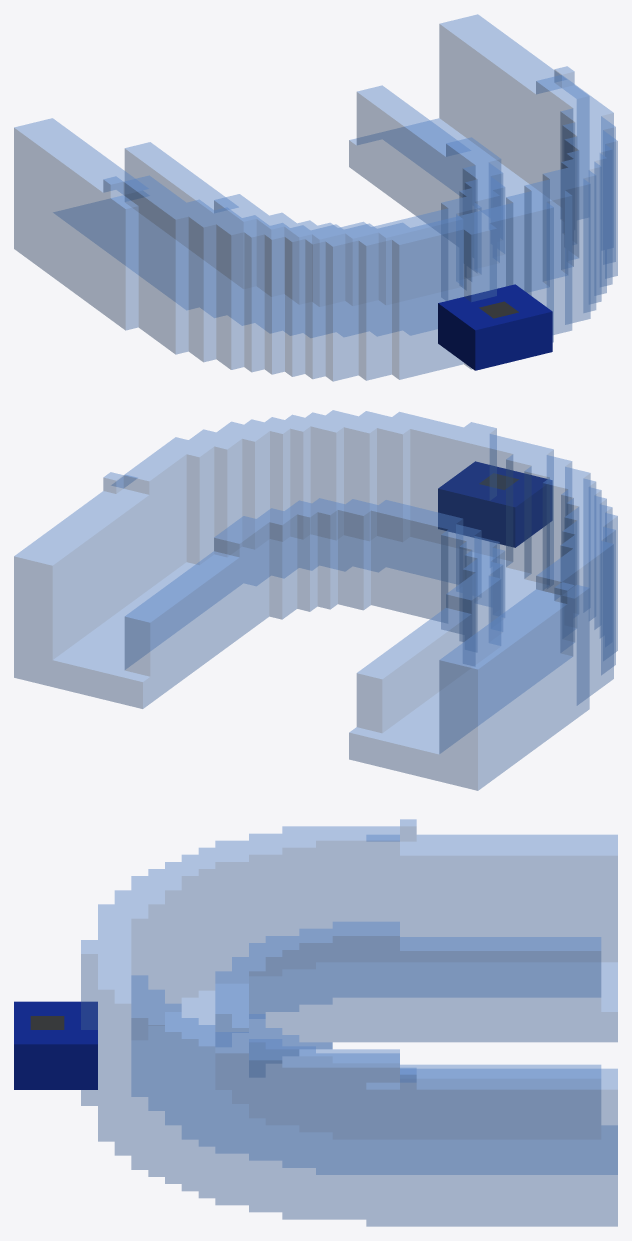
The model's file is mouthpiece.glb.
3 views of the same model, one above another, from view 1: azimuth 30°, elevation 25°; view 2: azimuth 150°, elevation 25°; view 3: azimuth 270°, elevation 25° (orthographic). The views are drawn at different scales.
Visible parts, largest first — view 1: mouthpiece:compound; view 2: mouthpiece:compound; view 3: mouthpiece:compound.
Part boxes in pixels (x1,y1,x2,y2): mouthpiece:compound: [14, 14, 617, 381]; mouthpiece:compound: [14, 410, 617, 790]; mouthpiece:compound: [14, 819, 617, 1226].
Bounding box in the file's own units: 0.072 × 0.02 × 0.072.
